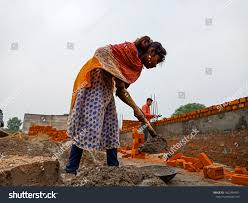arm: (114, 77, 152, 136), (66, 81, 90, 145)
face: (141, 46, 165, 68)
footwear: (102, 147, 121, 166), (61, 162, 79, 173)
human: (56, 30, 167, 175)
leg: (60, 141, 84, 175)
nogoggle: (143, 51, 161, 59)
nohelmet: (137, 39, 166, 68)
novest: (72, 71, 119, 144), (97, 40, 142, 85)
